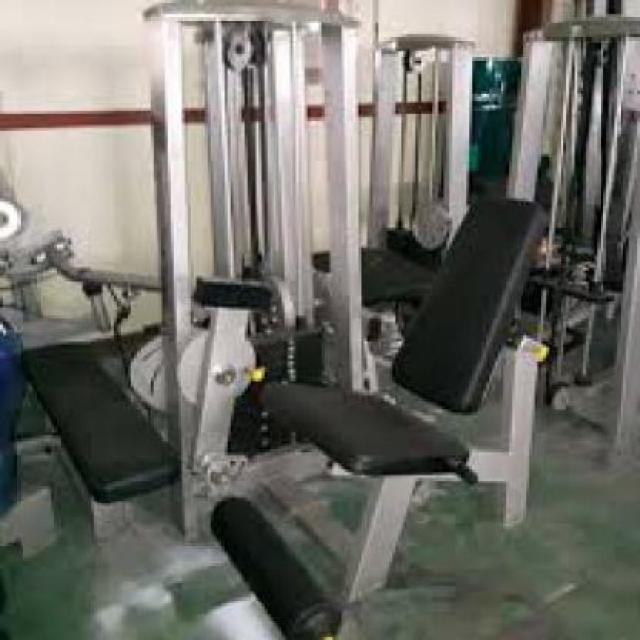leg extension: (120, 0, 585, 640)
